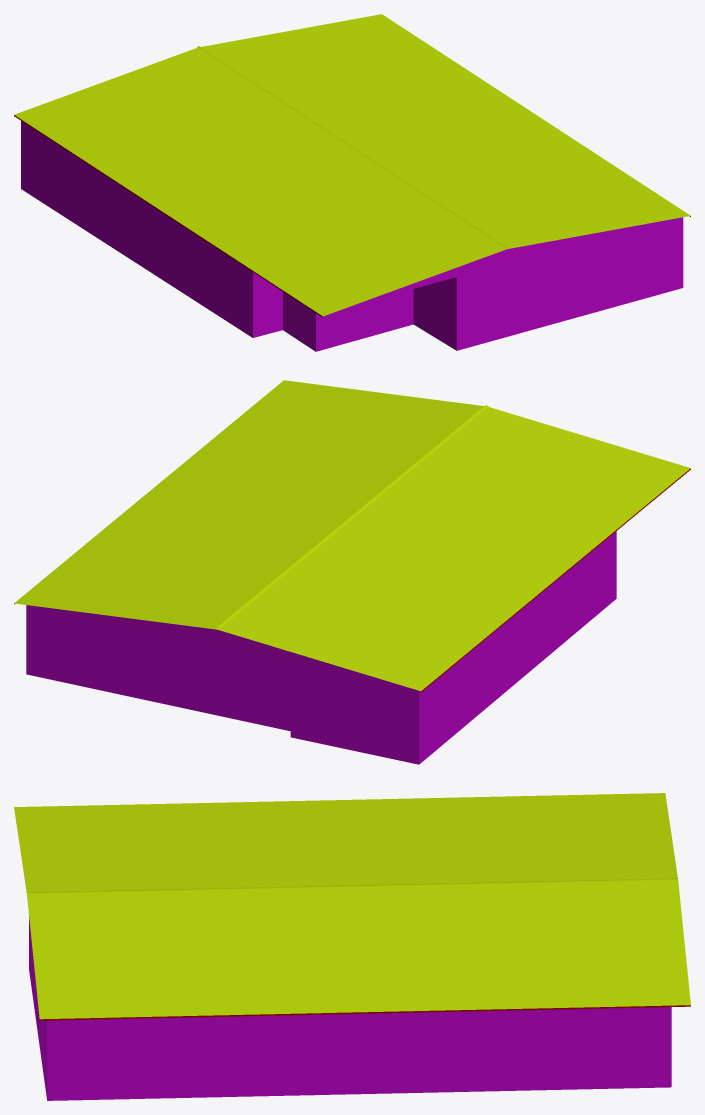
The model's file is scl_94.glb.
3 views of the same model, one above another, from view 1: azimuth 30°, elevation 25°; view 2: azimuth 150°, elevation 25°; view 3: azimuth 270°, elevation 25° (orthographic). The views are drawn at different scales.
Visible parts, largest first — view 1: scl_94; view 2: scl_94; view 3: scl_94.
Part boxes in pixels (left/top/right/bottom): scl_94: left=14, top=14, right=690, bottom=351; scl_94: left=14, top=380, right=690, bottom=764; scl_94: left=14, top=793, right=690, bottom=1100.
Size of the model in its own units: 38.34 by 8.31 by 48.5.
